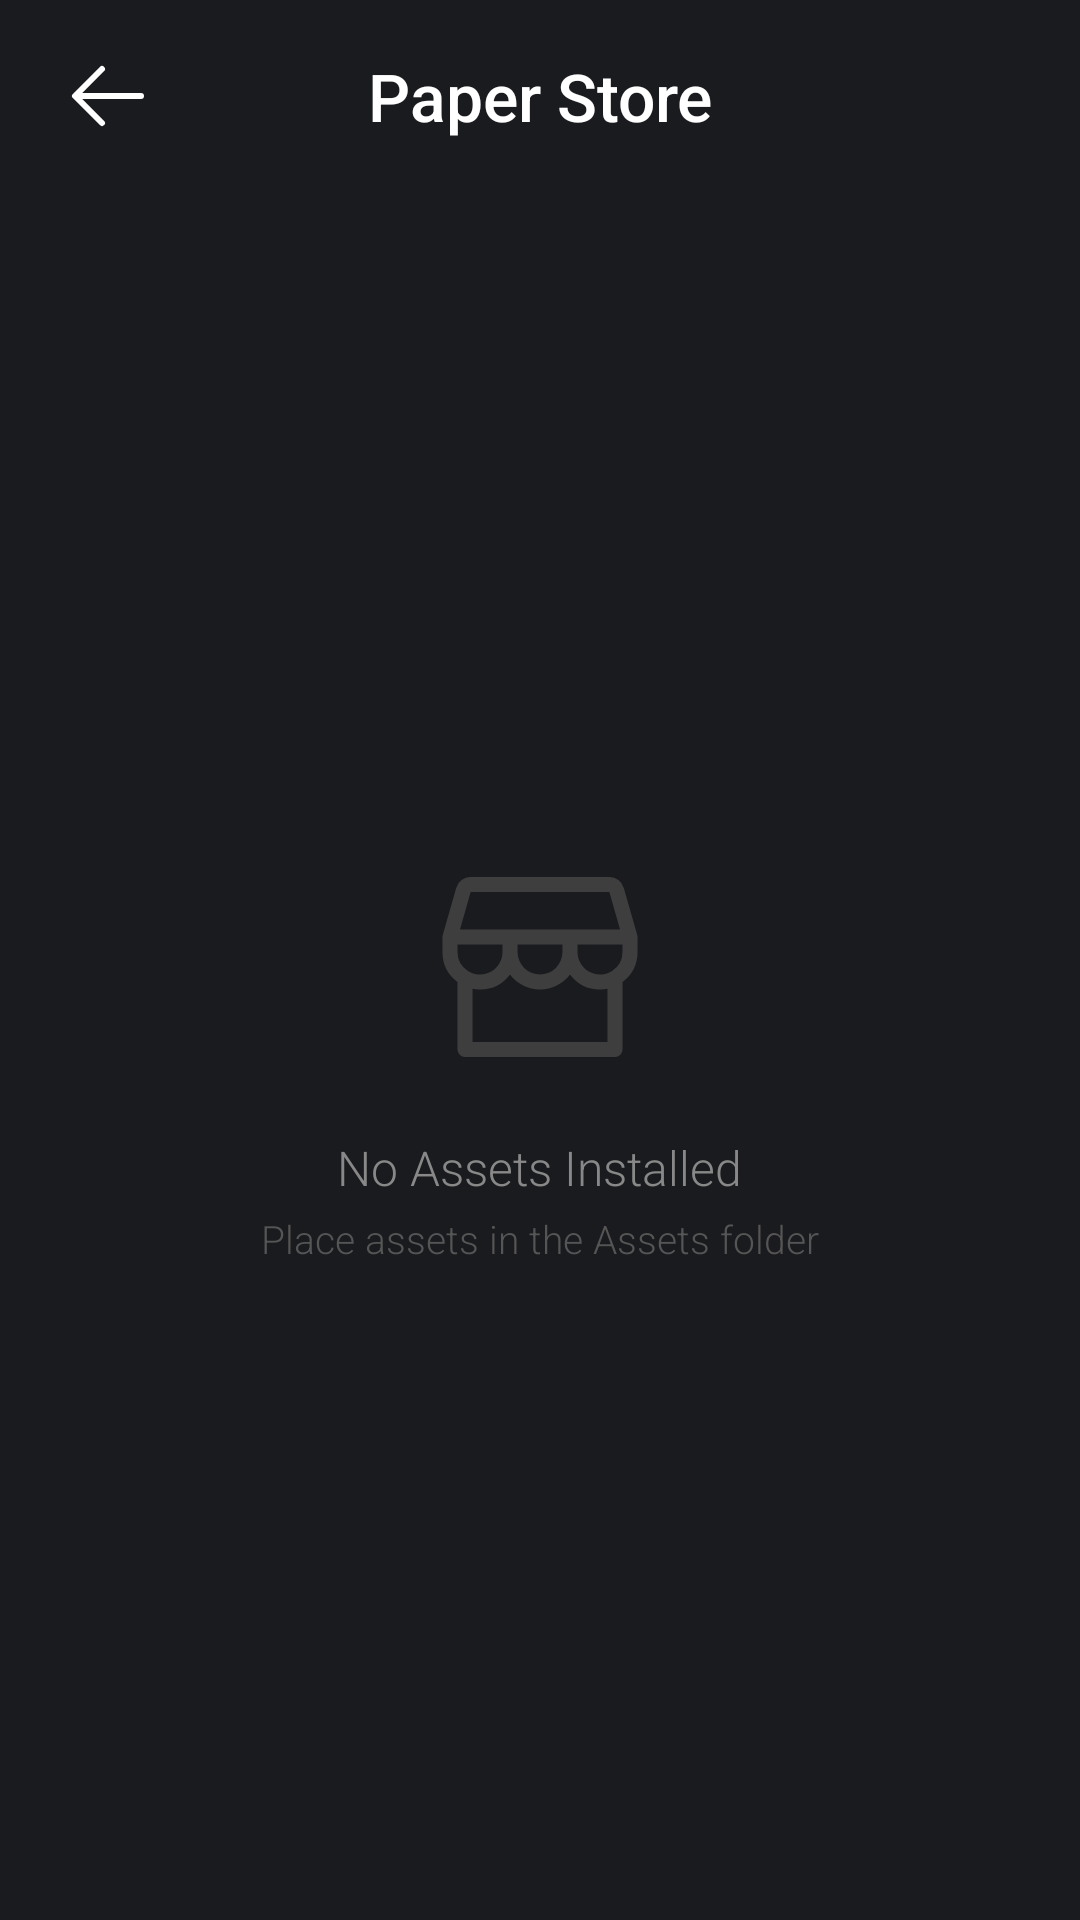

Icons on this 1080px×1920px Android screen, each with the point to tap as point (x, y):
Back: point (108, 95)
Paper Store: point (540, 967)
